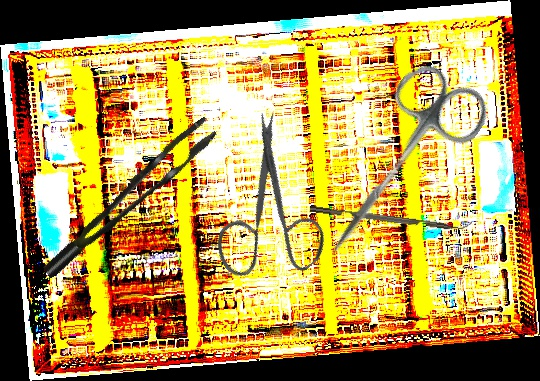Chopper: (309, 197, 473, 235)
Iris Scissors: (296, 52, 498, 283), (164, 106, 365, 309)
Tissue Forceps: (24, 116, 231, 279)
